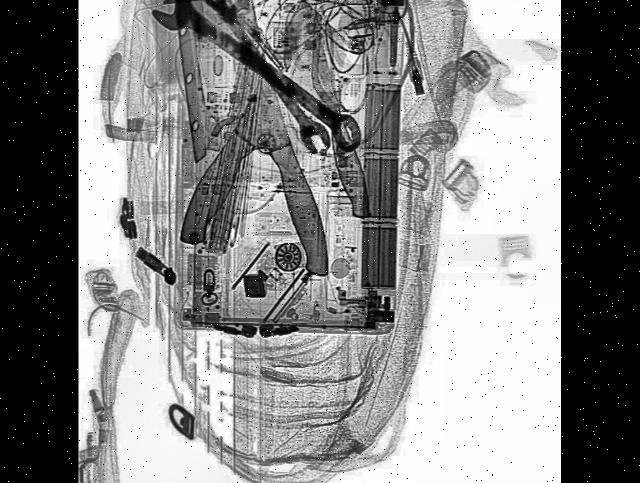Knife: (169, 0, 356, 286), (227, 0, 336, 286), (292, 0, 376, 223)
Wrench: (148, 0, 369, 162), (198, 0, 336, 165)
